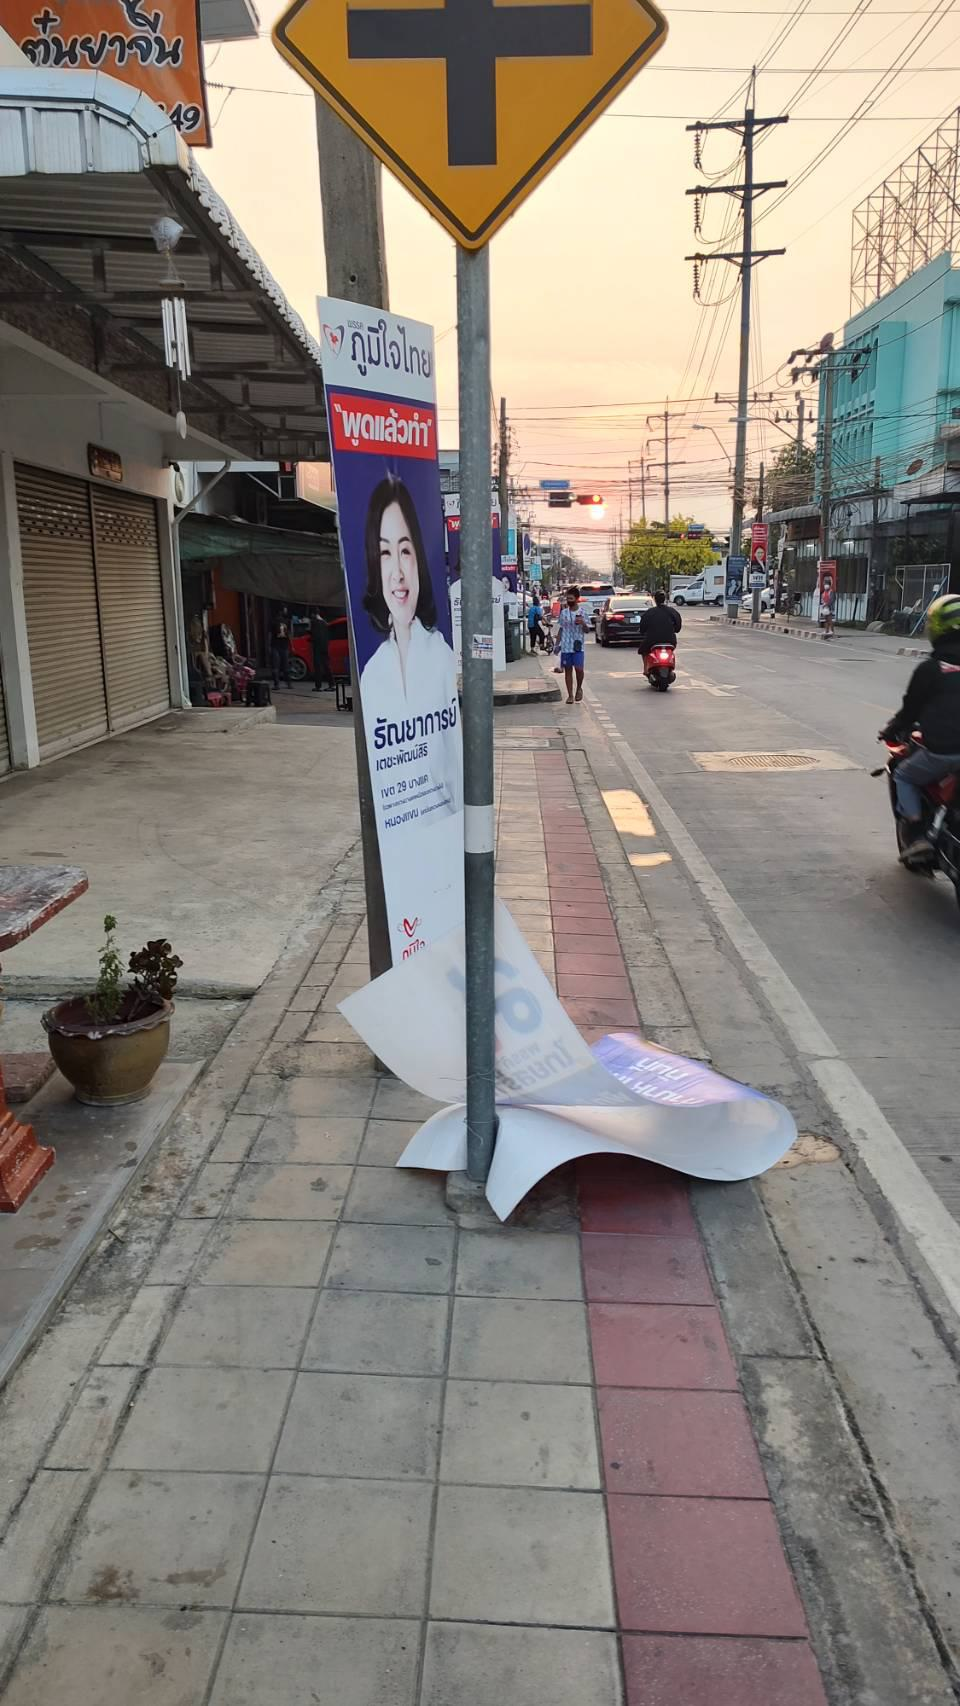Banner: (293, 294, 483, 1012)
